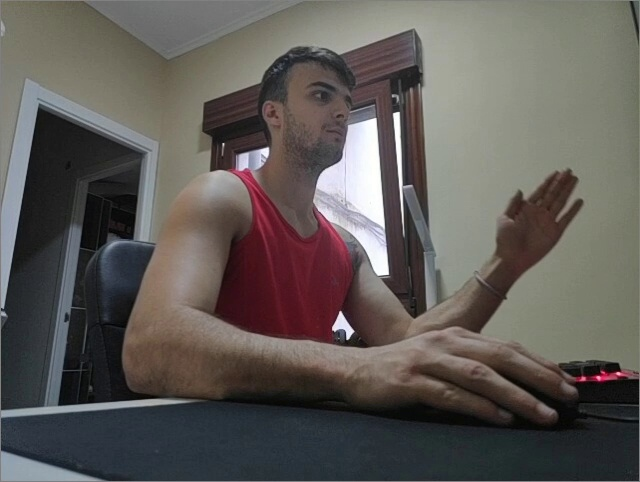Palm: (493, 166, 585, 261)
